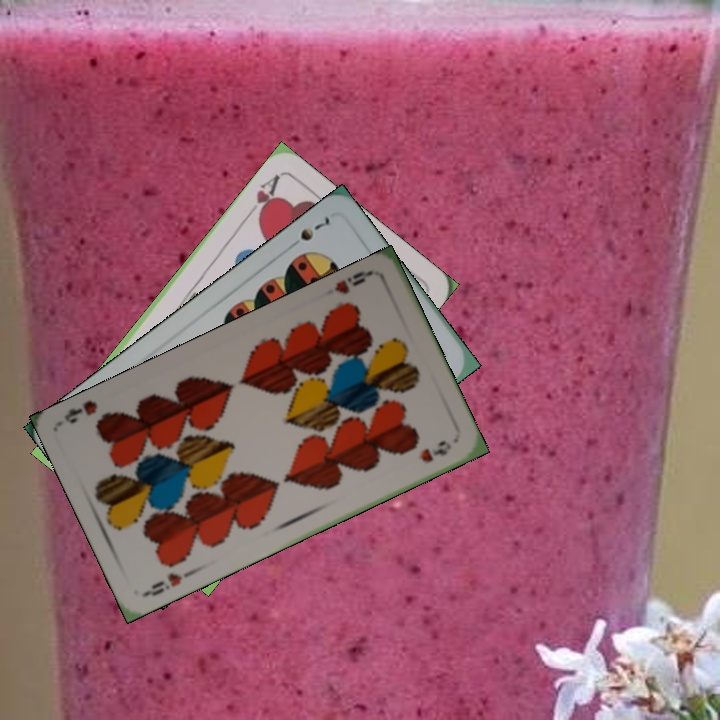H9: (330, 266, 376, 297), (141, 568, 185, 599)
HA: (241, 170, 283, 222)
S7: (284, 213, 333, 252)
